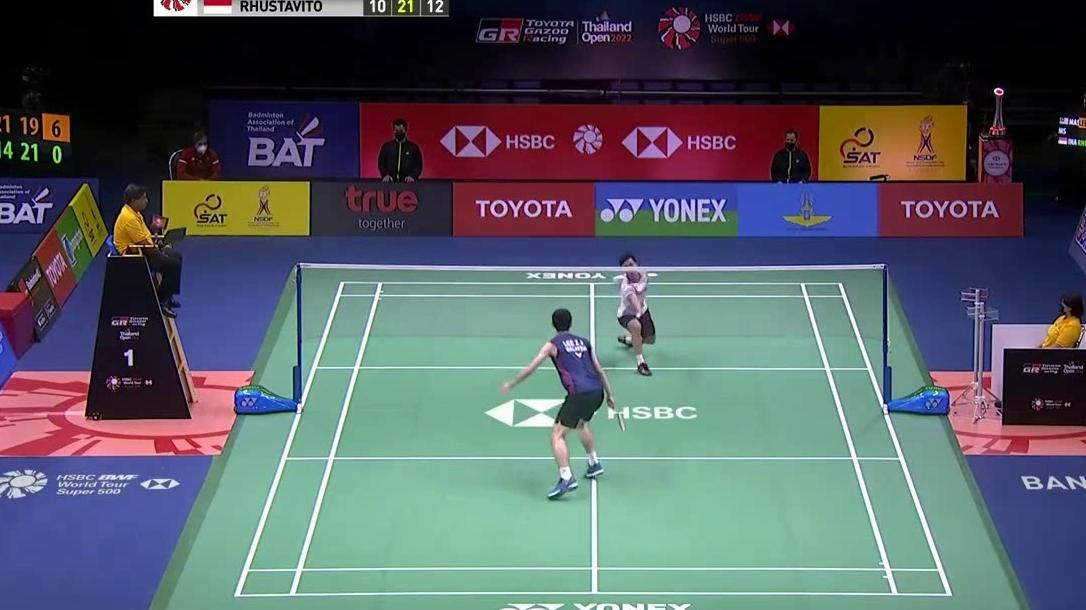racket: (607, 401, 628, 434), (618, 306, 643, 331)
shuttle: (618, 280, 628, 290)
